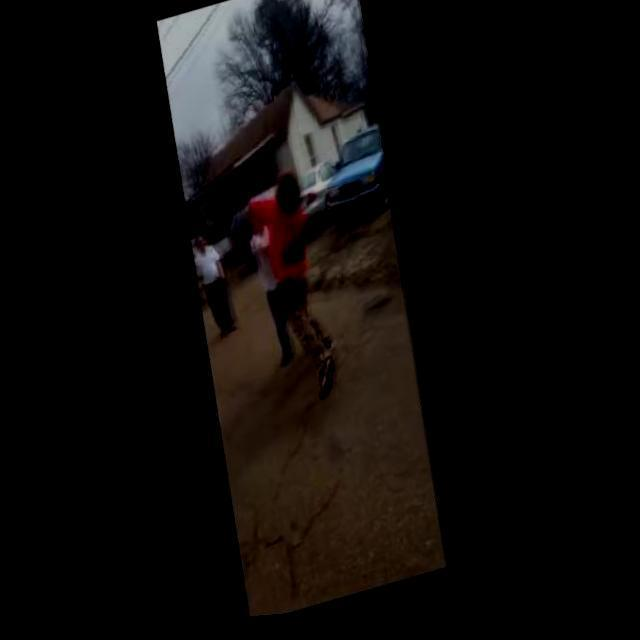fight: (234, 170, 361, 413)
